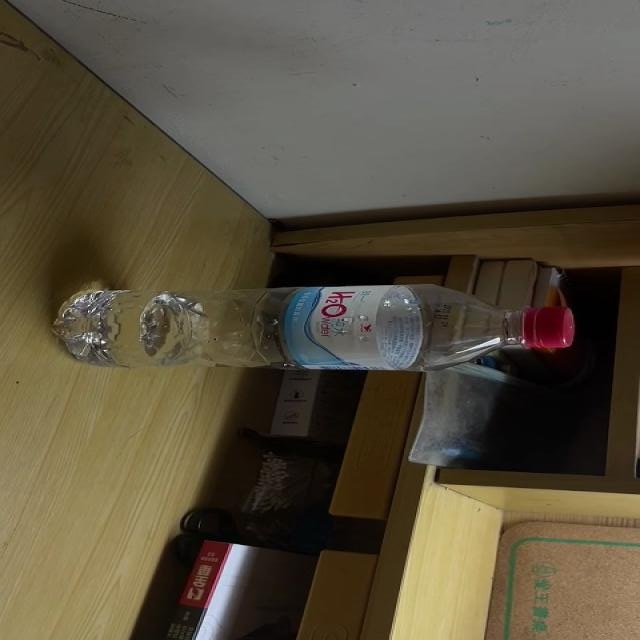Water: (52, 284, 577, 370)
